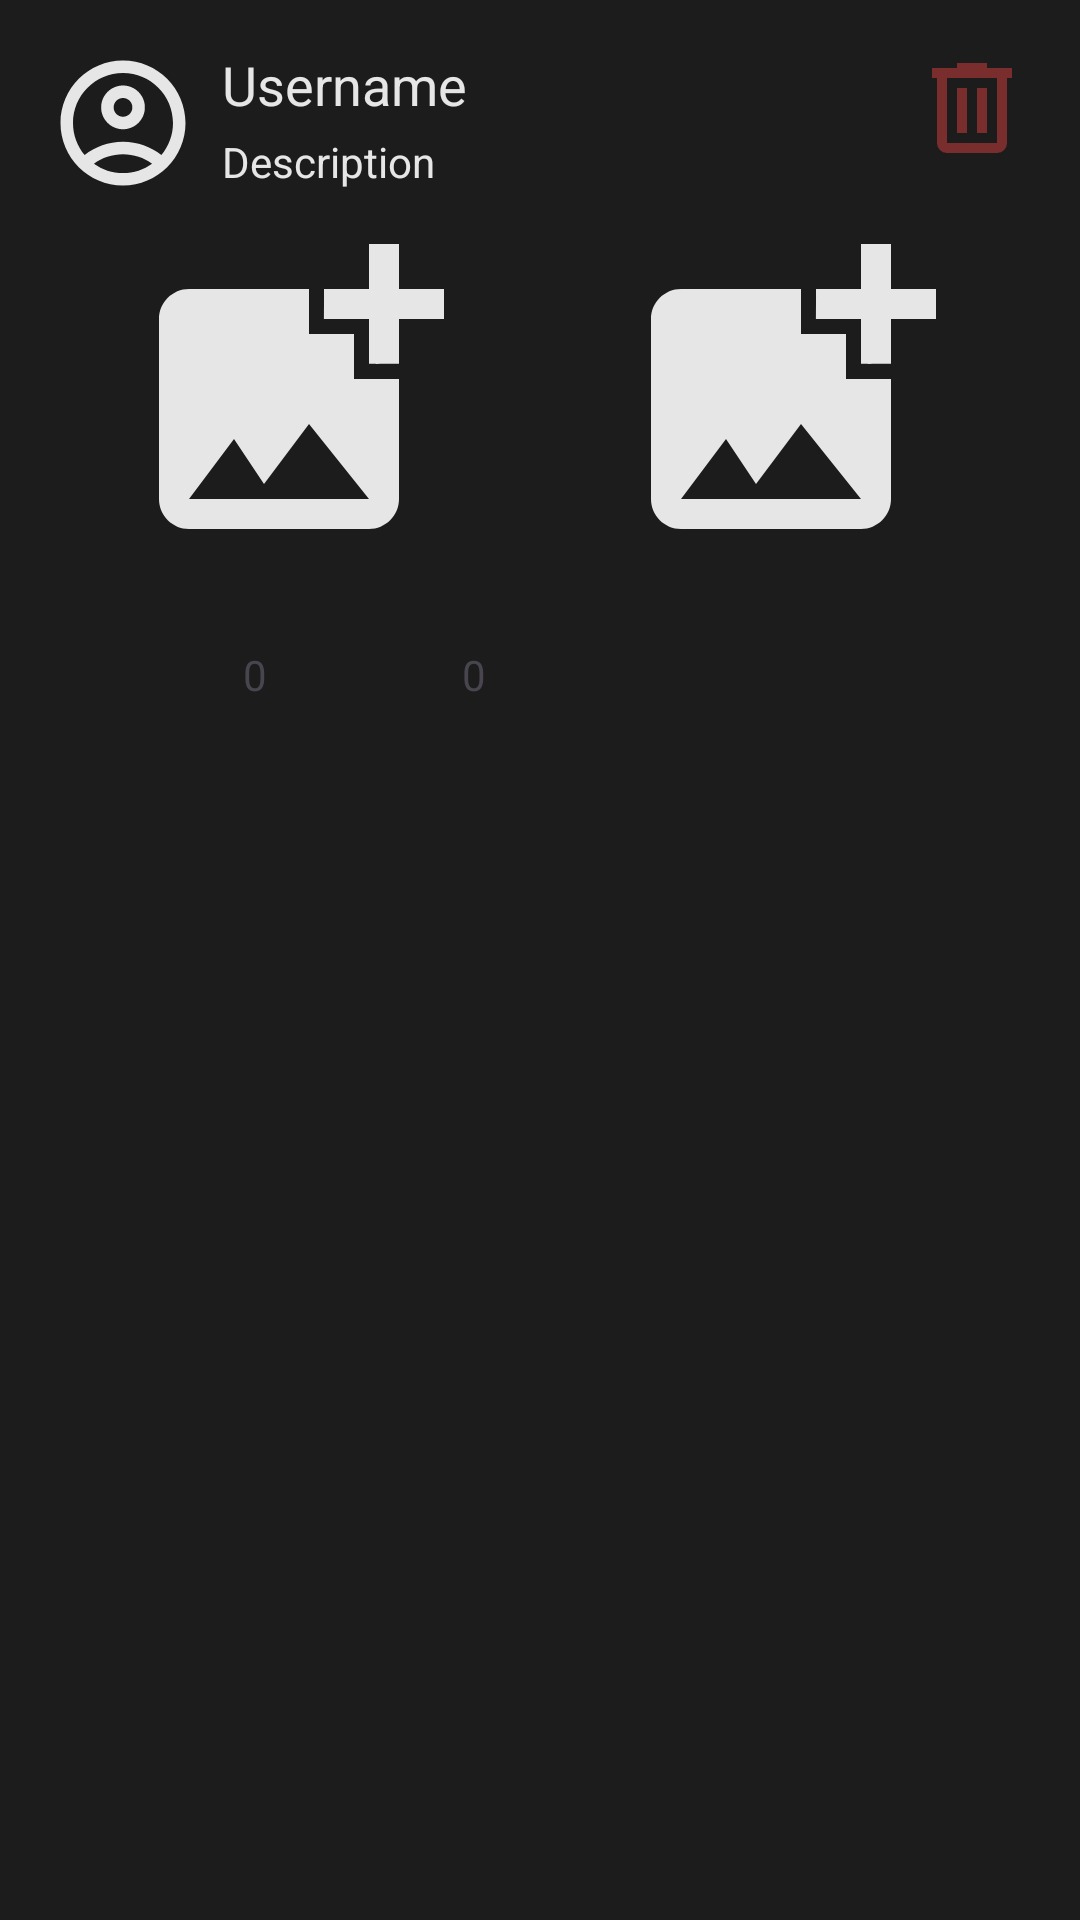

Screen size 1080×1920. Icon name, then its center in pixels as point (x, y):
account circle: point (123, 123)
add photo alternate: point (301, 386), point (793, 386)
delete: point (972, 108)
